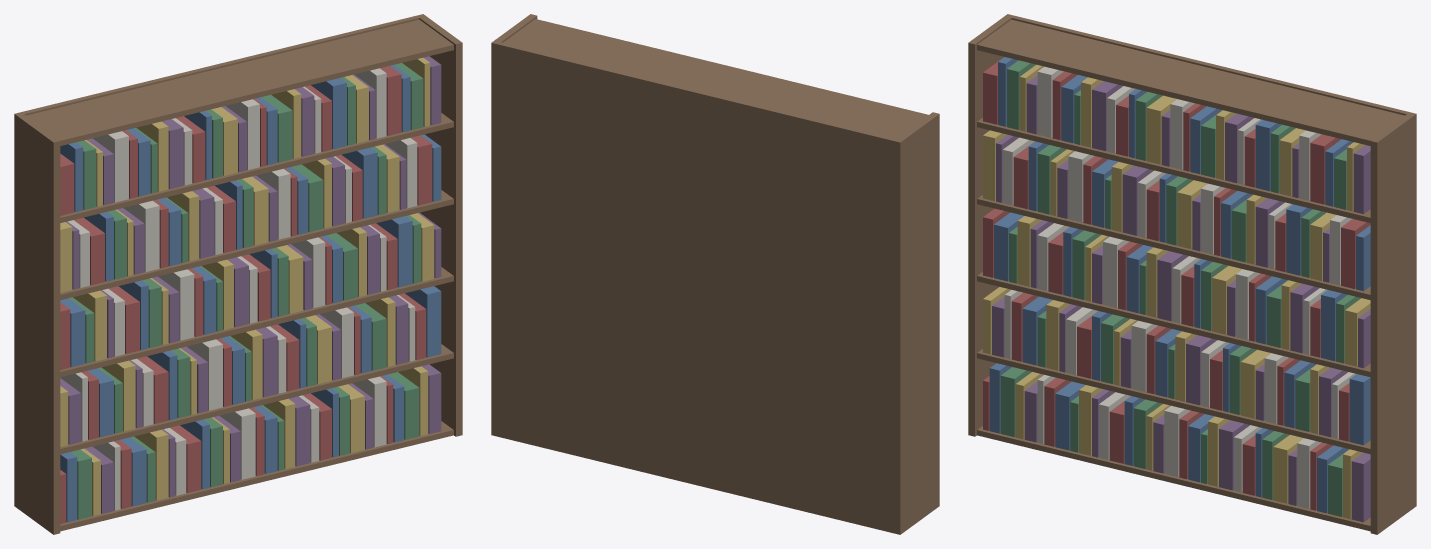
The model's file is 0760-Furniture-interiors-bookshelf.glb.
3 views of the same model, side by side, from view 1: azimuth 30°, elevation 25°; view 2: azimuth 150°, elevation 25°; view 3: azimuth 330°, elevation 25° (orthographic).
Parts seen in each view (by area): view 1: Furniture (interiors)/bookshelf; view 2: Furniture (interiors)/bookshelf; view 3: Furniture (interiors)/bookshelf.
Boxes of the visible parts, left/top/right/bottom form: Furniture (interiors)/bookshelf: left=14, top=14, right=462, bottom=534; Furniture (interiors)/bookshelf: left=491, top=14, right=939, bottom=534; Furniture (interiors)/bookshelf: left=968, top=14, right=1416, bottom=534.
Bounding box in the file's own units: 2.4 × 2.2 × 0.4.
